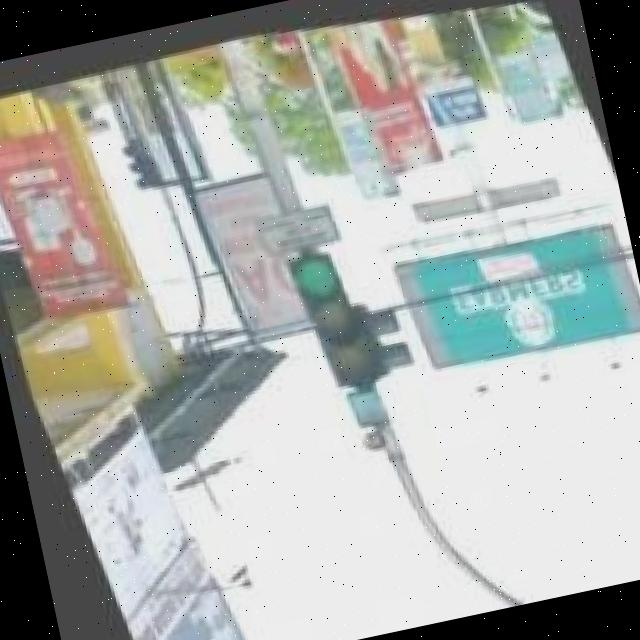green_light: (276, 235, 376, 394)
